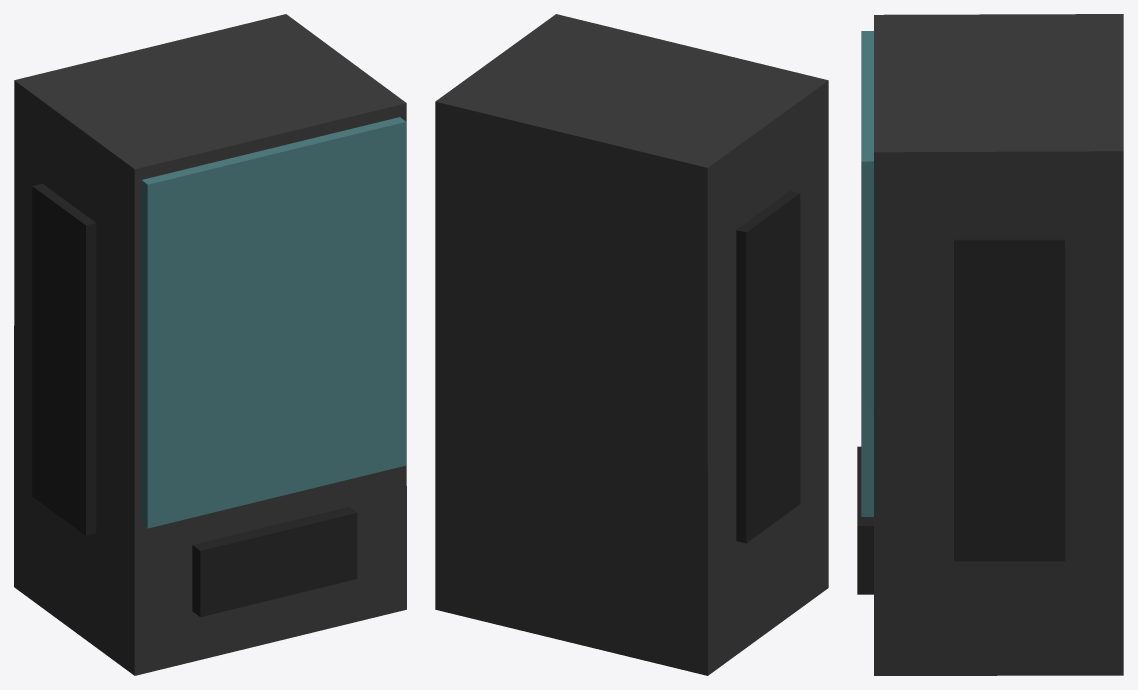
File: Foodmachine 2.fbx
3 renders of one model, left to right at view 1: azimuth 30°, elevation 25°; view 2: azimuth 150°, elevation 25°; view 3: azimuth 270°, elevation 25°, orthographic. The views are drawn at different scales.
Visible parts, largest first — view 1: PM3D_Cube3D1_557; view 2: PM3D_Cube3D1_557; view 3: PM3D_Cube3D1_557.
Boxes of the visible parts, x1,y1,x2,y2 form: PM3D_Cube3D1_557: (14, 14, 406, 675); PM3D_Cube3D1_557: (435, 14, 828, 675); PM3D_Cube3D1_557: (857, 14, 1123, 675).
Size of the model in its own units: 140 by 234 by 107.
